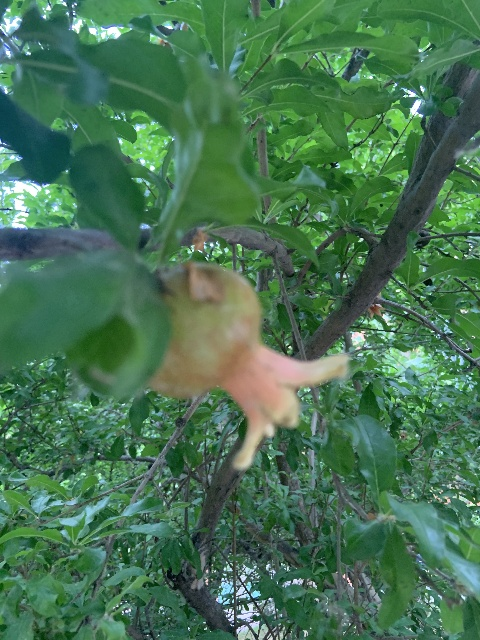early-fruit: (365, 292, 387, 320)
mid-growth: (148, 260, 349, 473)
